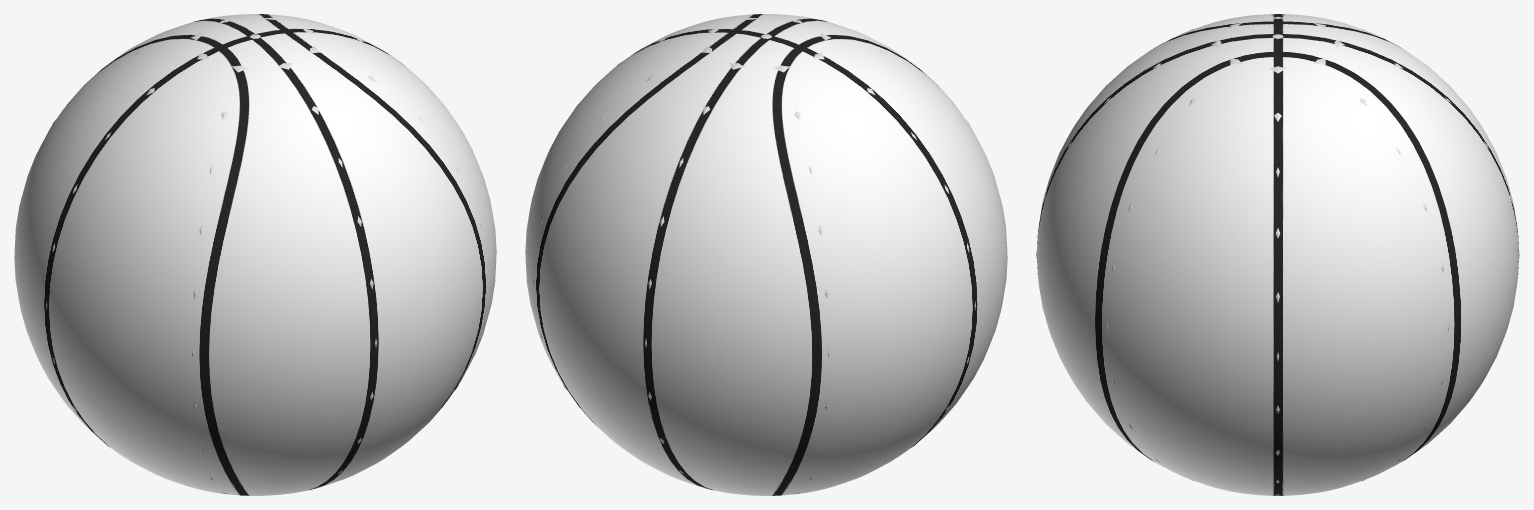
The model's file is ball.glb.
3 renders of one model, left to right at view 1: azimuth 30°, elevation 25°; view 2: azimuth 150°, elevation 25°; view 3: azimuth 270°, elevation 25°, orthographic.
Parts seen in each view (by area): view 1: ball, Sphere; view 2: ball, Sphere; view 3: ball, Sphere.
Part boxes in pixels (left/top/right/bottom): ball: left=14, top=14, right=496, bottom=495; Sphere: left=46, top=17, right=488, bottom=493; ball: left=525, top=14, right=1007, bottom=495; Sphere: left=533, top=17, right=975, bottom=493; ball: left=1036, top=14, right=1519, bottom=495; Sphere: left=1036, top=16, right=1519, bottom=495.
Bounding box in the file's own units: 0.24 × 0.24 × 0.24.
1 material, 1 textured.
